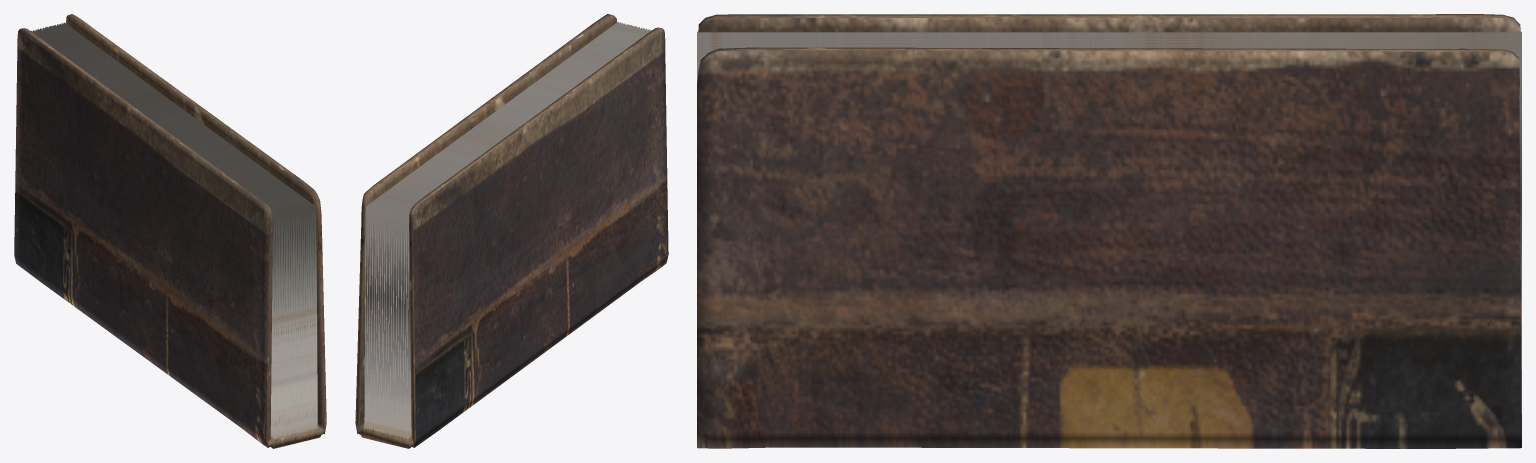
Rendered from diario.fbx.
The picture shows the model from 3 angles, left to right: view 1: azimuth 30°, elevation 25°; view 2: azimuth 150°, elevation 25°; view 3: azimuth 270°, elevation 25°; orthographic projection. The views are drawn at different scales.
Visible parts, largest first — view 1: diario; view 2: diario; view 3: diario.
Boxes of the visible parts, bbox=[...] form: diario: bbox=[14, 14, 326, 448]; diario: bbox=[355, 14, 668, 448]; diario: bbox=[697, 14, 1521, 448].
Size of the model in its own units: 27.65 by 107 by 200.
